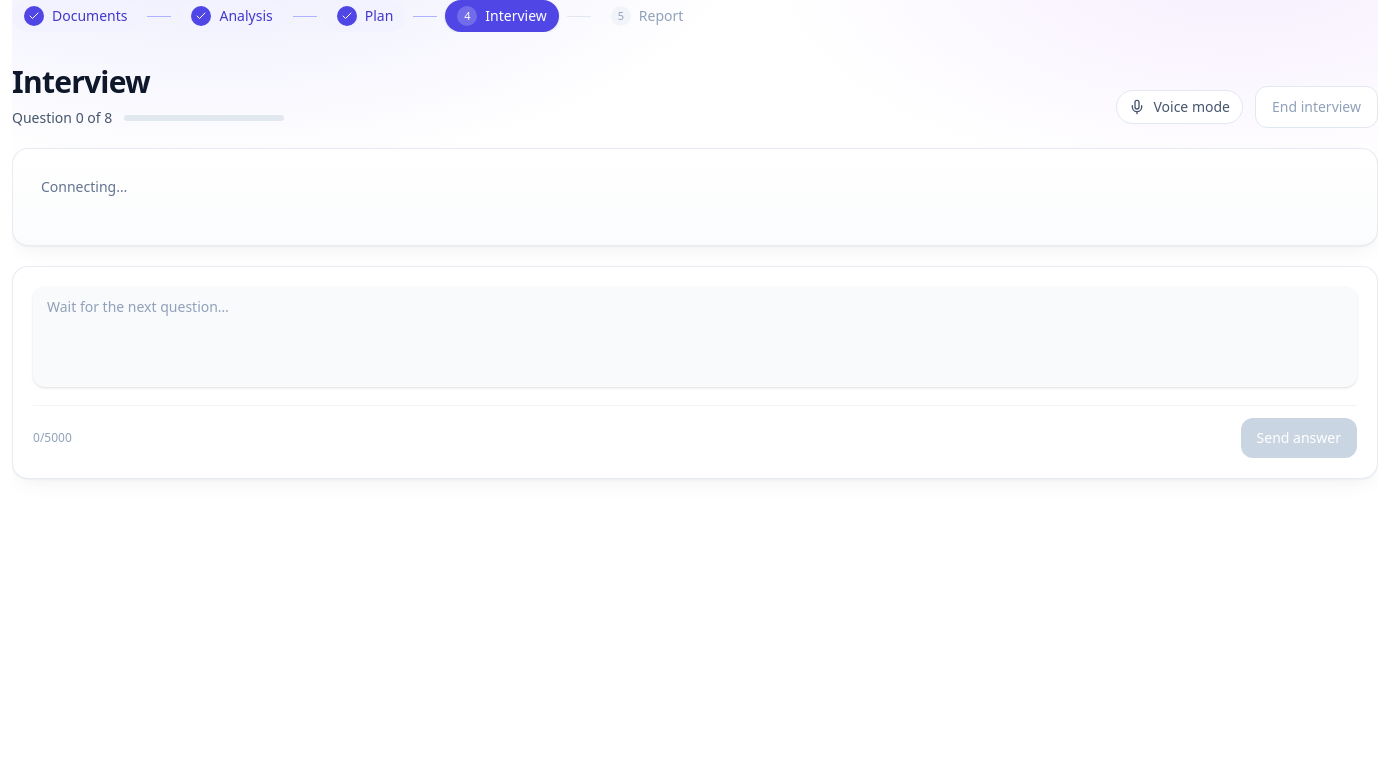
Test: voice mode in the interview room › says plainly when the server has no speech recognition, and still reads questions aloud
Click the switch labelled "Voice mode" at point(1180, 107), box [1116,90,1243,124]
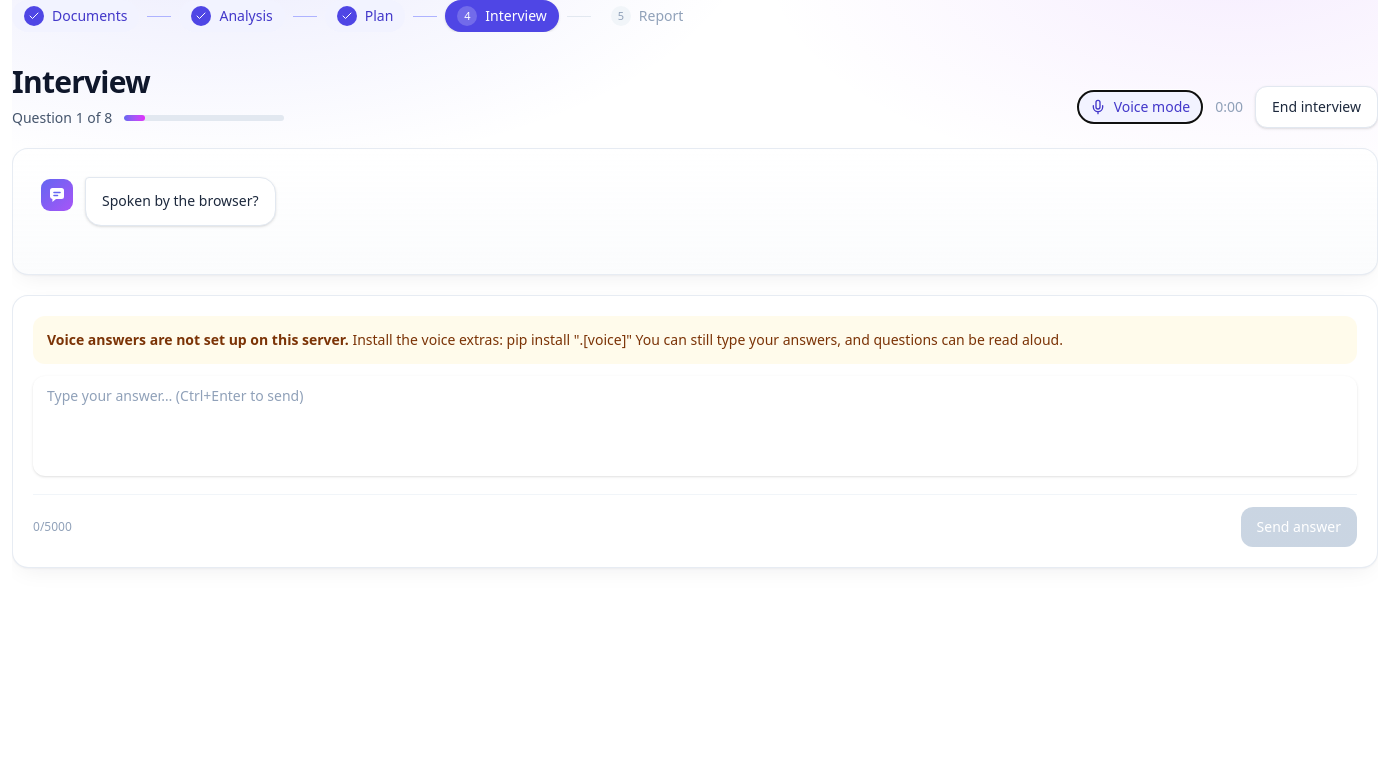
Expected: the text "Voice answers are not set up on this server." is shown, [47,330,349,349]
Expected: the text "pip install" is shown, [352,330,632,349]
Expected: the text "questions can be read aloud" is shown, [837,330,1063,349]
